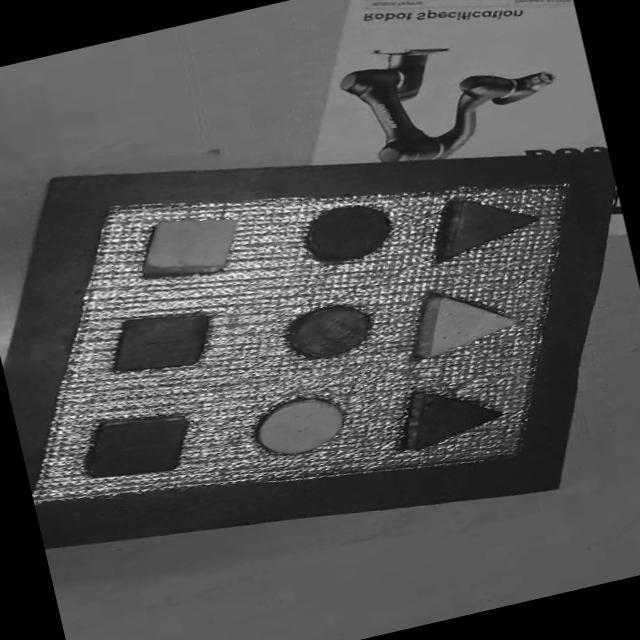bcircle: (294, 195, 400, 269)
bcube: (108, 301, 214, 378)
btriangle: (388, 372, 503, 455)
rcircle: (276, 290, 382, 366)
rcube: (82, 404, 197, 486)
rtriangle: (415, 181, 541, 267)
wb: (34, 174, 583, 500)
ycircle: (248, 390, 354, 466)
ycube: (134, 207, 246, 281)
ytriangle: (402, 272, 524, 362)
